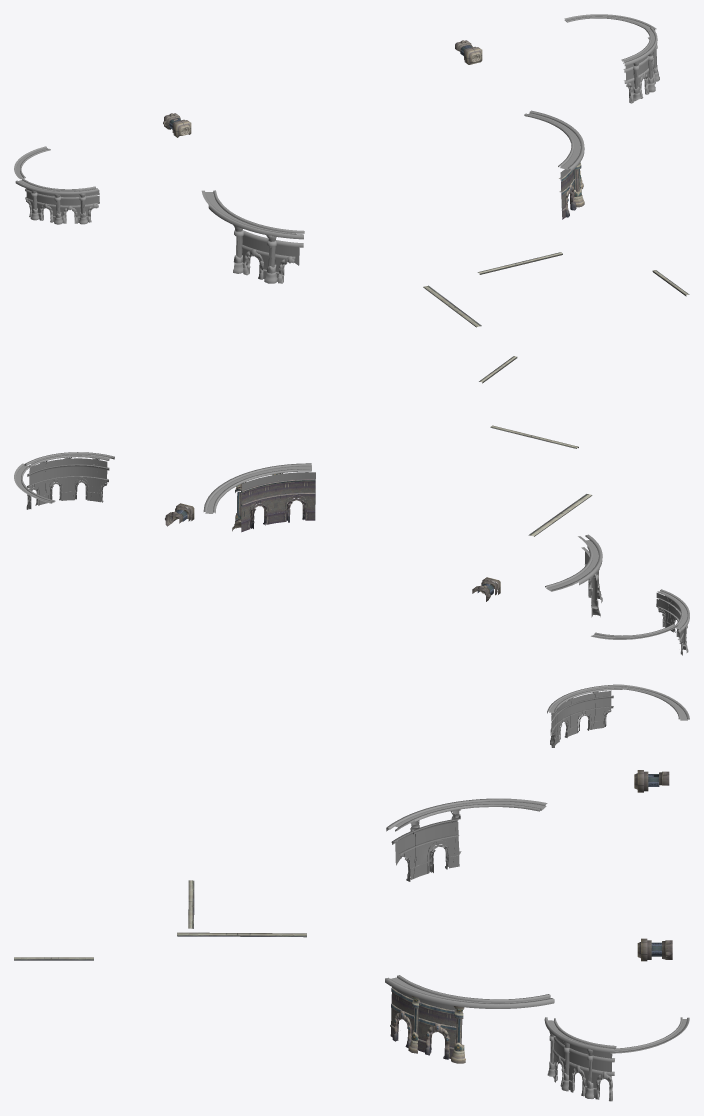
Rendered from S_Build_City137_A.FBX.
3 views of the same model, one above another, from view 1: azimuth 30°, elevation 25°; view 2: azimuth 150°, elevation 25°; view 3: azimuth 270°, elevation 25° (orthographic). The views are drawn at different scales.
Visible parts, largest first — view 1: S_Build_City137_001, S_Build_City137_005, S_Build_City137_002, S_Build_City137_003, S_Build_City137_004, S_Build_City112; view 2: S_Build_City137_002, S_Build_City137_003, S_Build_City137_001, S_Build_City137_005; view 3: S_Build_City137_002, S_Build_City137_001, S_Build_City137_003, S_Build_City137_005, S_Build_City112_S1.
Boxes of the visible parts, <box> form: S_Build_City137_001: <box>201,190,304,283</box>; S_Build_City137_005: <box>15,179,99,224</box>; S_Build_City137_002: <box>524,110,584,219</box>; S_Build_City137_003: <box>621,27,659,103</box>; S_Build_City137_004: <box>564,14,656,31</box>; S_Build_City112: <box>163,113,191,137</box>; S_Build_City137_002: <box>203,463,315,532</box>; S_Build_City137_003: <box>24,452,114,509</box>; S_Build_City137_001: <box>545,534,602,617</box>; S_Build_City137_005: <box>656,589,689,655</box>; S_Build_City137_002: <box>385,975,554,1063</box>; S_Build_City137_001: <box>386,798,547,881</box>; S_Build_City137_003: <box>544,1017,616,1101</box>; S_Build_City137_005: <box>547,684,622,747</box>; S_Build_City112_S1: <box>637,938,672,961</box>.
Bounding box in the file's own units: 15317 × 2097 × 11868.
Materials: 5 (3 with a texture image).
